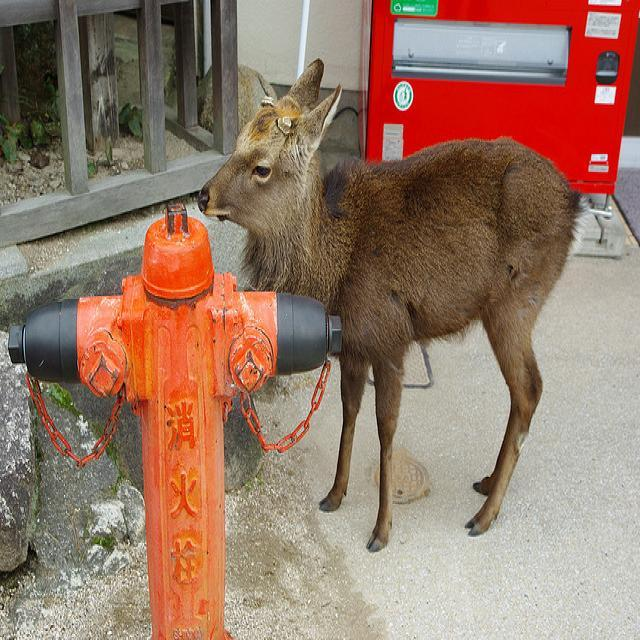fire_hydrant: (7, 199, 342, 640)
